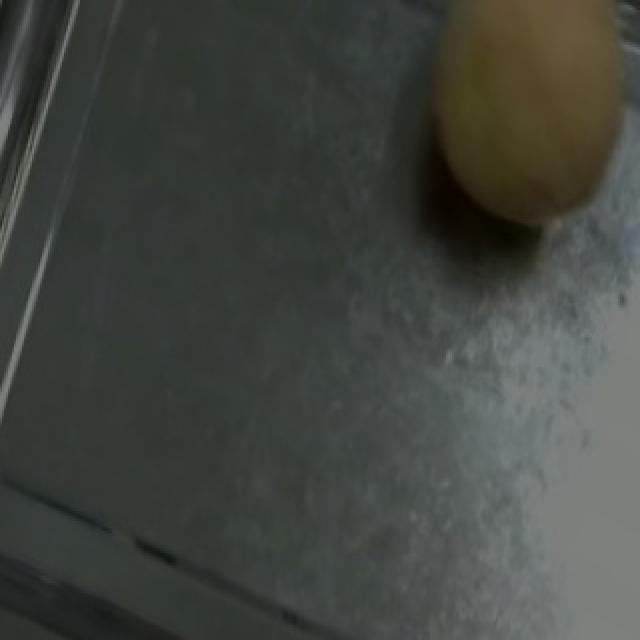Fruit: (388, 0, 640, 248)
